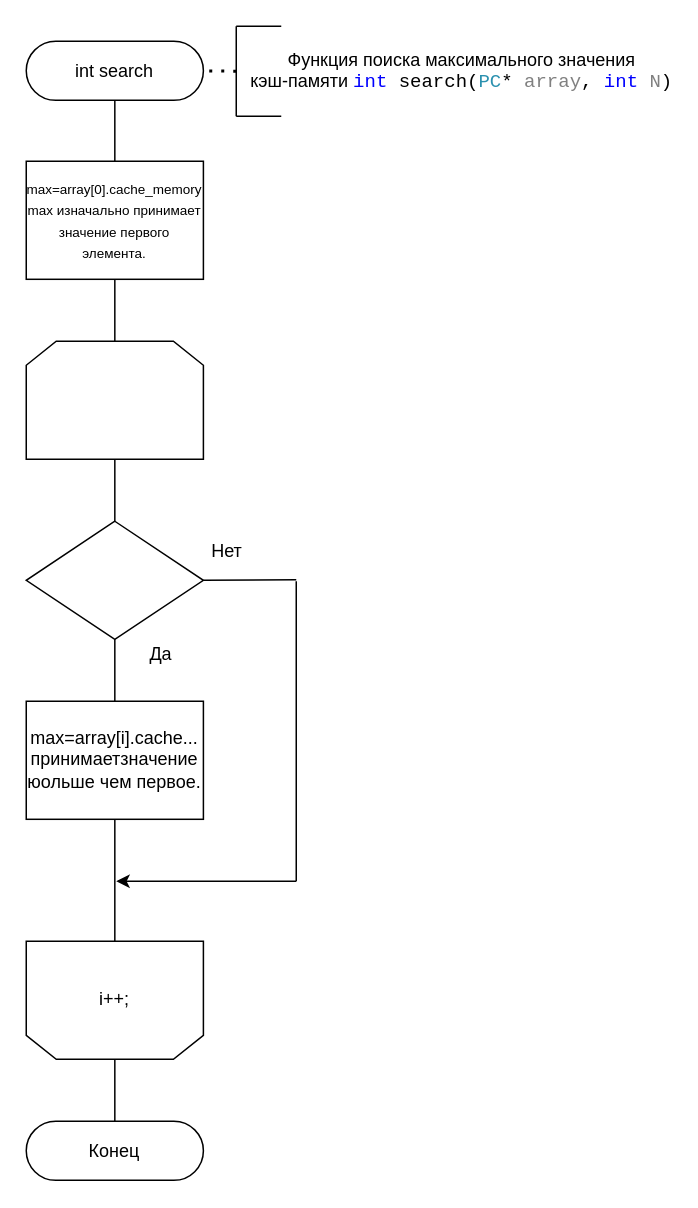
Image size: 698x1208. Some labels were removed from this diagram. Here are the shapes that lost their labels. From the top down, the box of each, then its label:
(25, 340, 203, 459): Для i<N,i=0;
(25, 520, 203, 639): array[i].cache, >max
